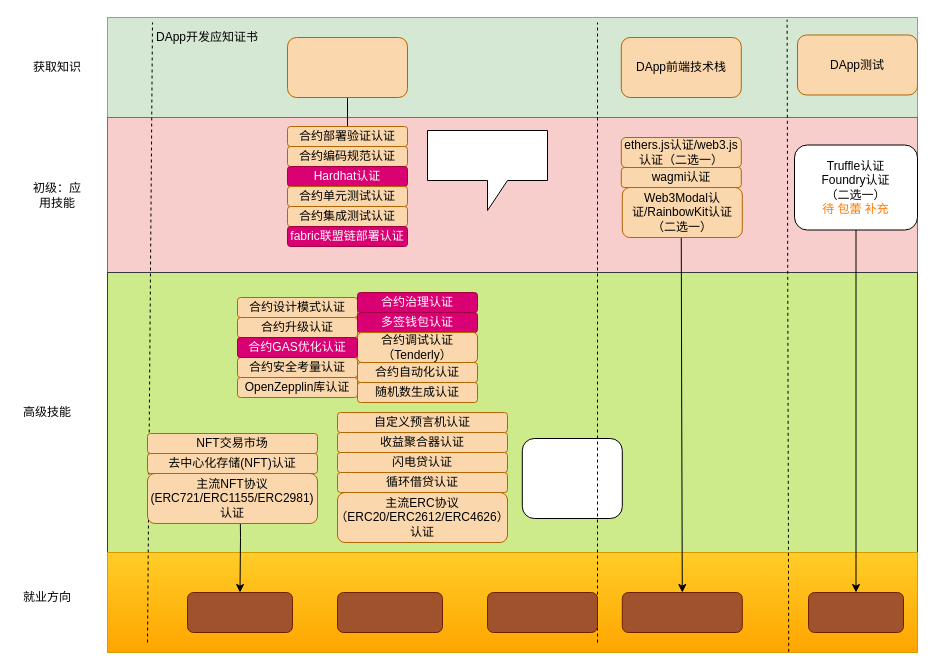
Image size: 935x671. Some labels were removed from this diagram. Each missing label, with the box of its shape:
DApp前端开发工程师: (621, 592, 742, 632)
DApp测试工程师: (808, 592, 904, 632)
DeFi智能合约开发: (336, 592, 442, 632)
NFT智能合约开发: (186, 592, 292, 632)
以太坊基础 Dapp概述 以太坊智能合约: (286, 36, 408, 98)
联盟链也是使用hardhat框架么: (426, 130, 548, 210)
联盟链开发认证（待诗伟补充）: (521, 438, 622, 518)
联盟链智能合约开发: (486, 592, 598, 632)
